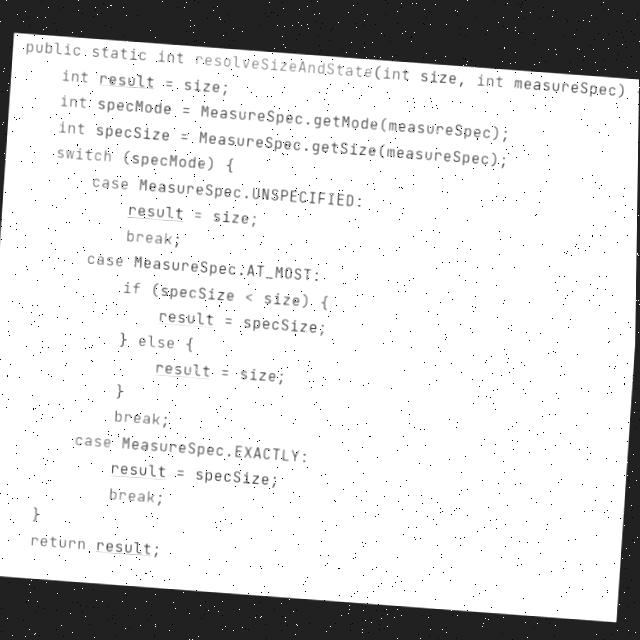code_screen: (0, 34, 639, 618)
